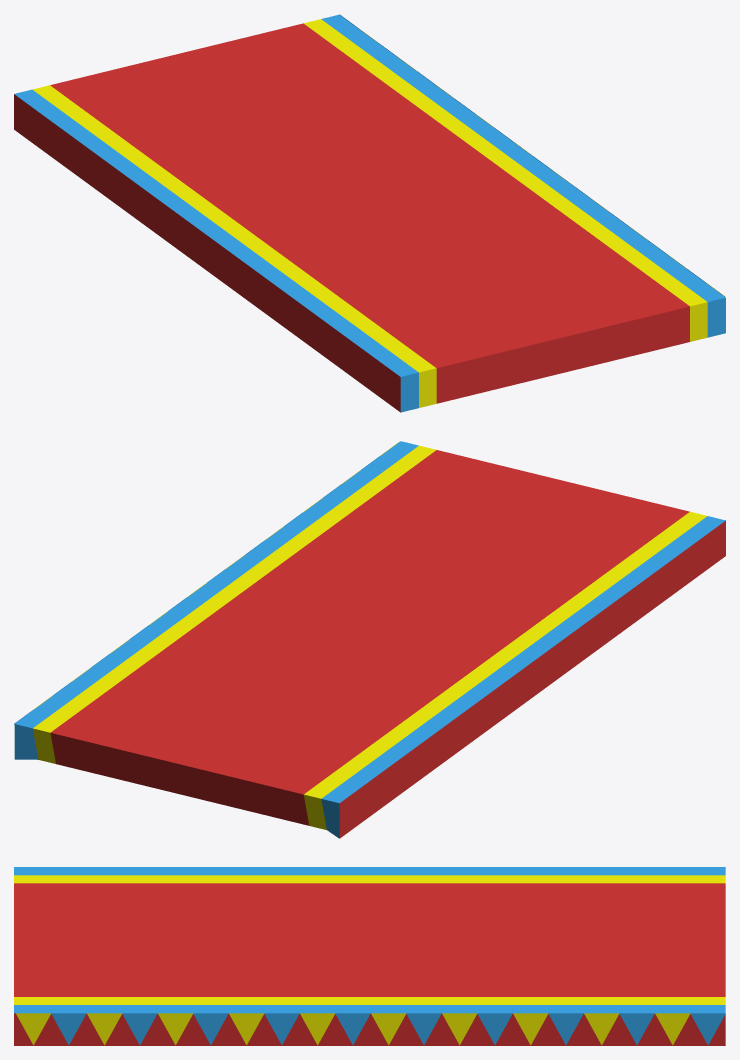
The model's file is EVPicadeiro.fbx.
The picture shows the model from 3 angles, top to bottom: view 1: azimuth 30°, elevation 25°; view 2: azimuth 150°, elevation 25°; view 3: azimuth 270°, elevation 25°; orthographic projection. The views are drawn at different scales.
Parts seen in each view (by area): view 1: Cube.008; view 2: Cube.008; view 3: Cube.008, Plane.002.
Part boxes in pixels (left/top/right/bottom): Cube.008: left=14, top=14, right=725, bottom=412; Cube.008: left=14, top=441, right=725, bottom=838; Cube.008: left=14, top=867, right=725, bottom=1045; Plane.002: left=16, top=1013, right=725, bottom=1045.
Size of the model in its own units: 2855 by 299 by 5872.
Materials: 1 (1 with a texture image).
